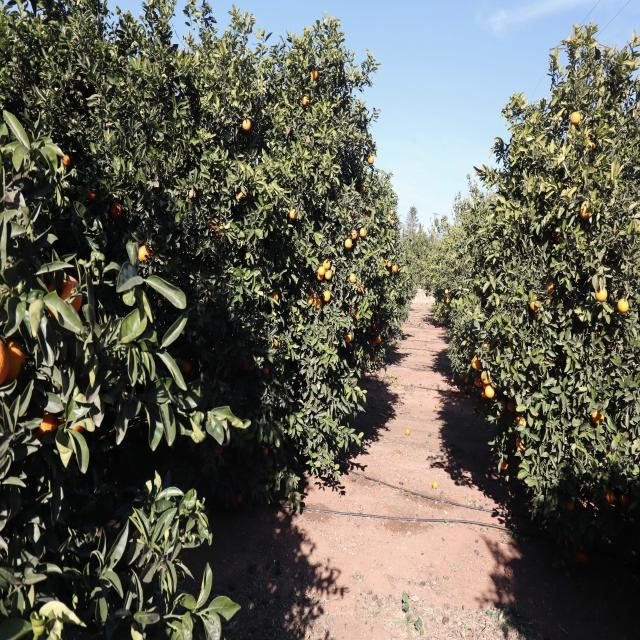Jeruk Sudah Matang: (43, 272, 86, 318), (33, 411, 64, 452), (5, 338, 27, 388), (138, 242, 160, 269), (0, 333, 10, 391), (592, 406, 608, 429), (614, 295, 632, 314), (582, 200, 594, 220), (482, 372, 495, 389), (470, 355, 482, 372), (596, 286, 608, 302), (241, 118, 254, 132), (300, 92, 310, 109), (88, 187, 100, 201), (61, 154, 70, 172), (288, 207, 300, 220), (360, 225, 370, 240), (310, 67, 320, 81), (486, 388, 497, 400), (345, 235, 353, 251), (376, 335, 384, 350), (342, 331, 352, 342), (326, 267, 332, 284), (324, 259, 334, 269), (323, 292, 333, 302), (352, 227, 358, 240), (319, 264, 326, 274), (368, 154, 374, 164), (88, 412, 90, 416)
